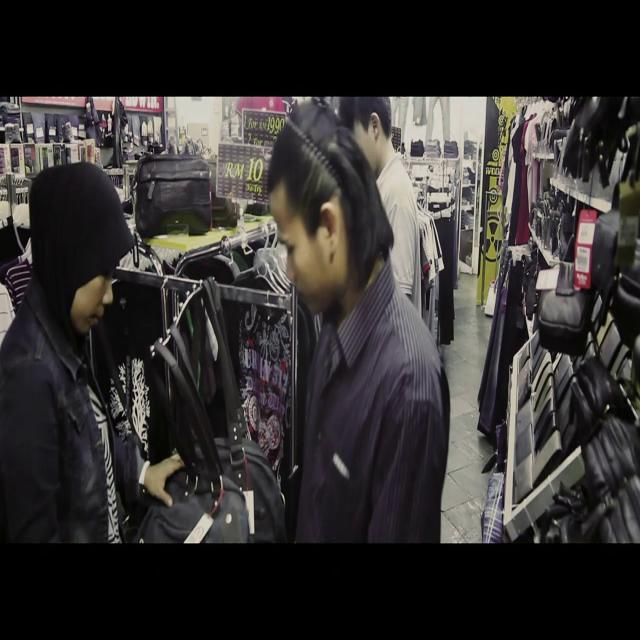normal: (0, 135, 247, 547), (279, 93, 456, 552), (364, 95, 444, 268)
